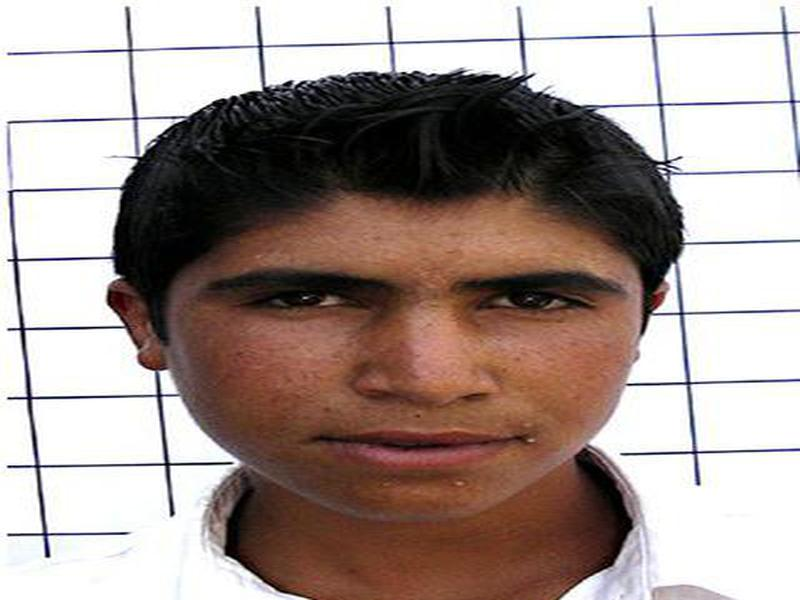without_mask: (163, 185, 648, 519)
